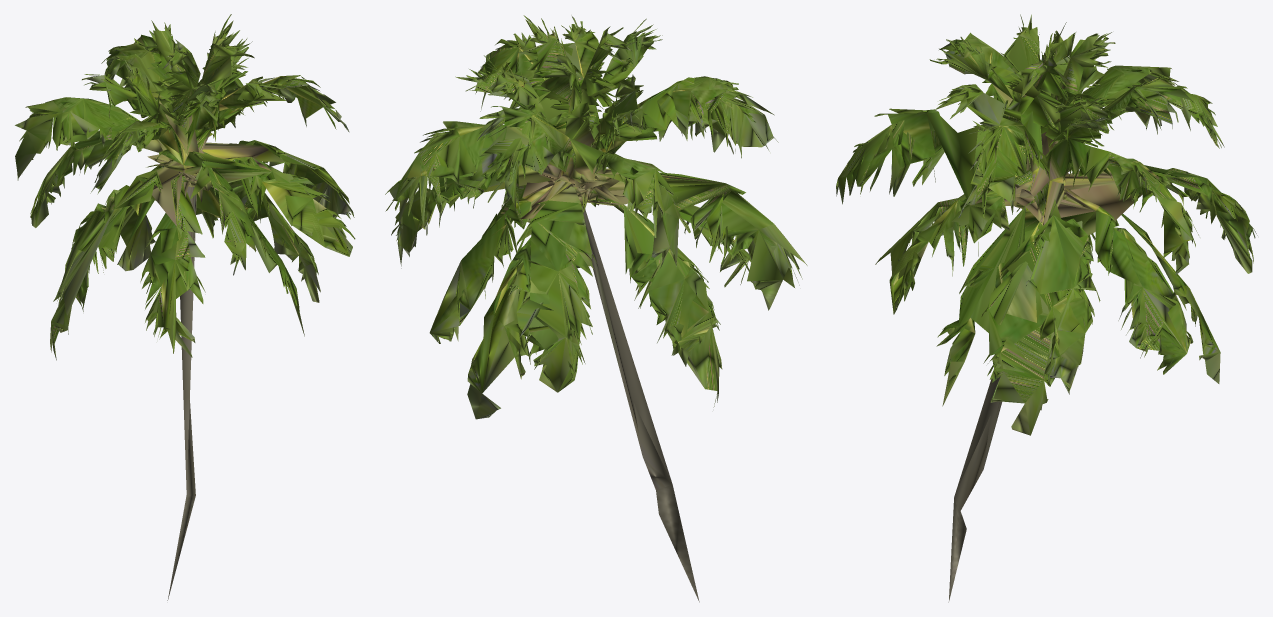
File: palm_lod.glb
3 views of the same model, side by side, from view 1: azimuth 30°, elevation 25°; view 2: azimuth 150°, elevation 25°; view 3: azimuth 270°, elevation 25° (orthographic). The views are drawn at different scales.
Bounding box in the file's own units: 1.16 × 1.77 × 1.1.
1 material, 1 textured.
